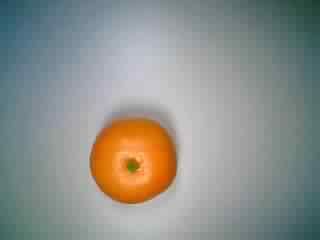orange: (81, 104, 176, 206)
